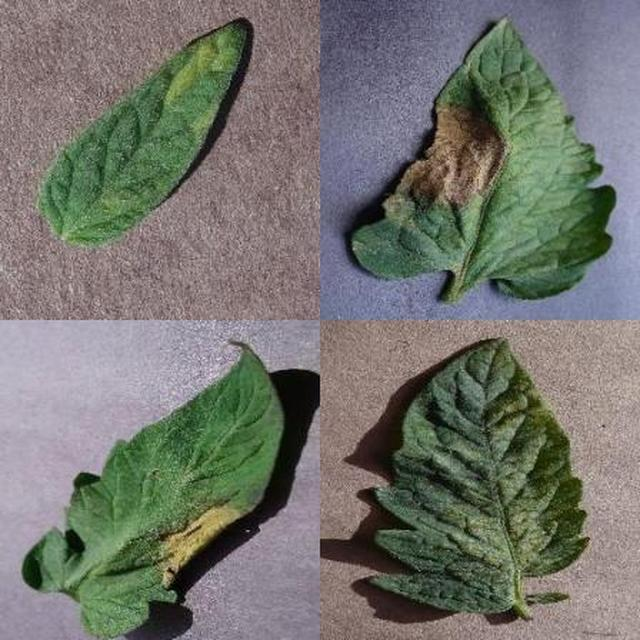Leaf Mold: (206, 187, 640, 640)
